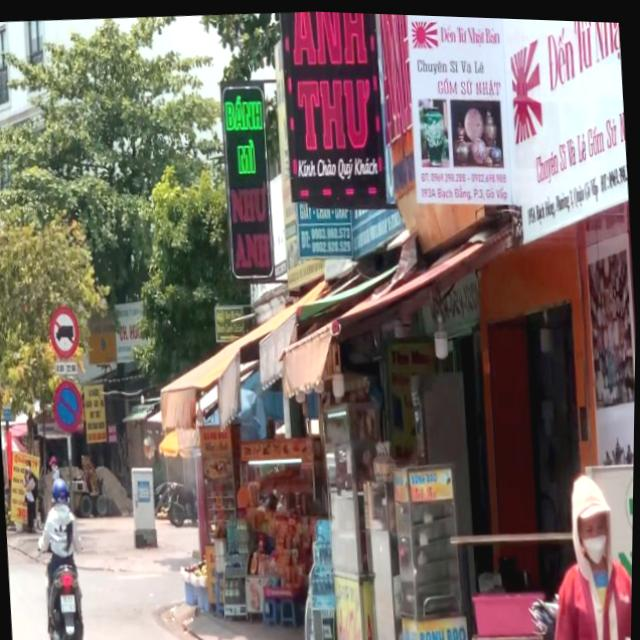Cam do xe: (51, 378, 86, 433)
Cam xe tai: (48, 304, 81, 359)
